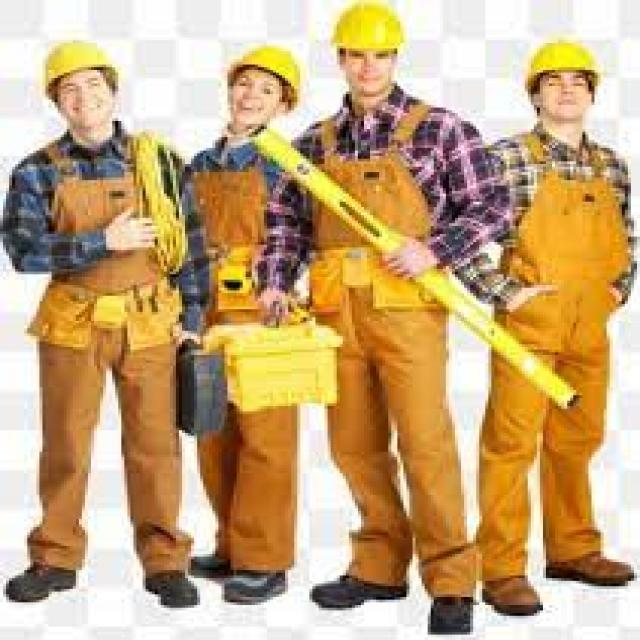Safety-Helmet: (210, 35, 316, 108), (506, 27, 616, 97), (28, 29, 140, 96), (318, 1, 422, 65)
